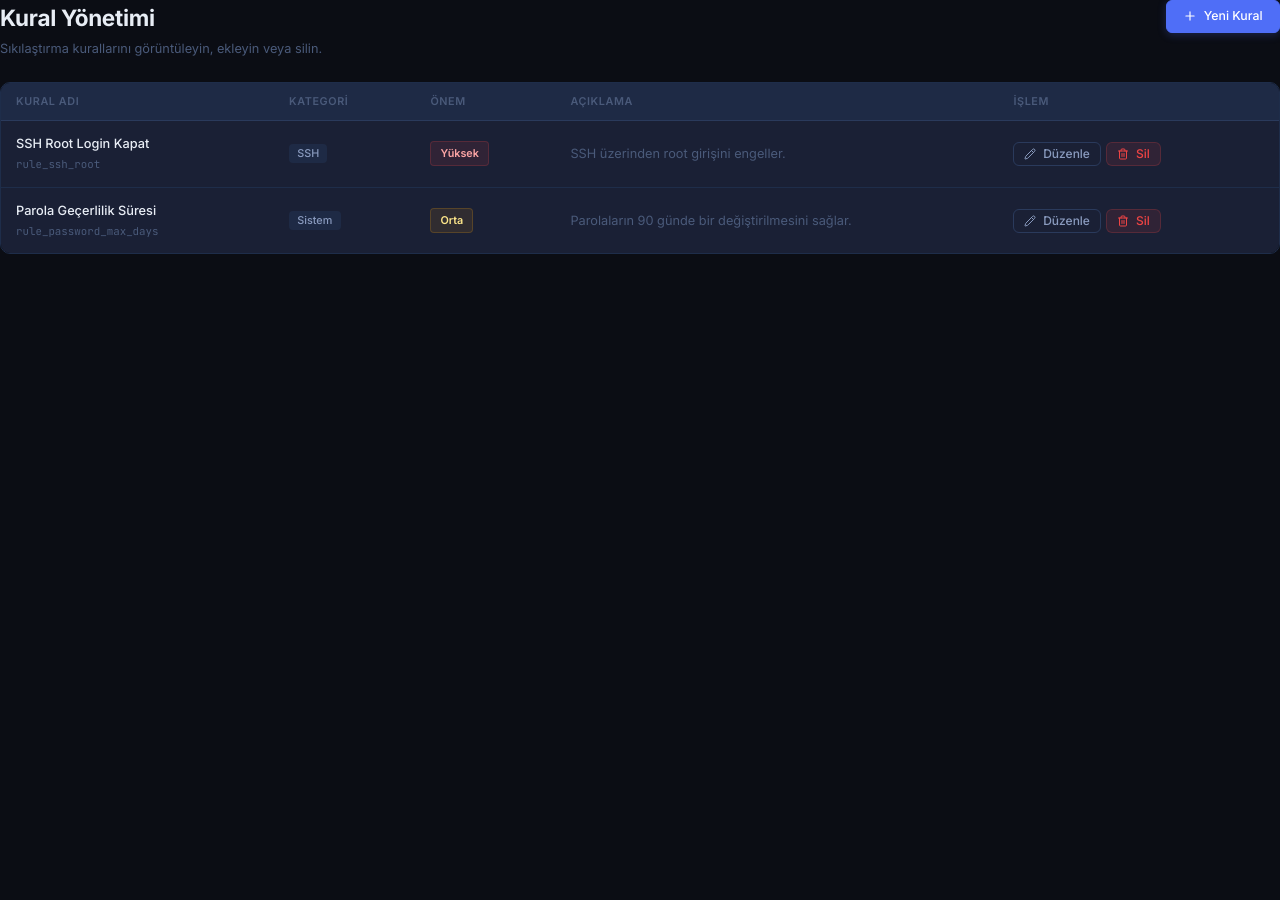
Test: RuleManager Bileşeni › Yeni Kural butonuna basıldığında formu açmalı
Expected: the text "SSH Root Login Kapat" is shown, [16,136,149,151]
Click the button "Yeni Kural": click(1223, 16) [1166,0,1279,32]
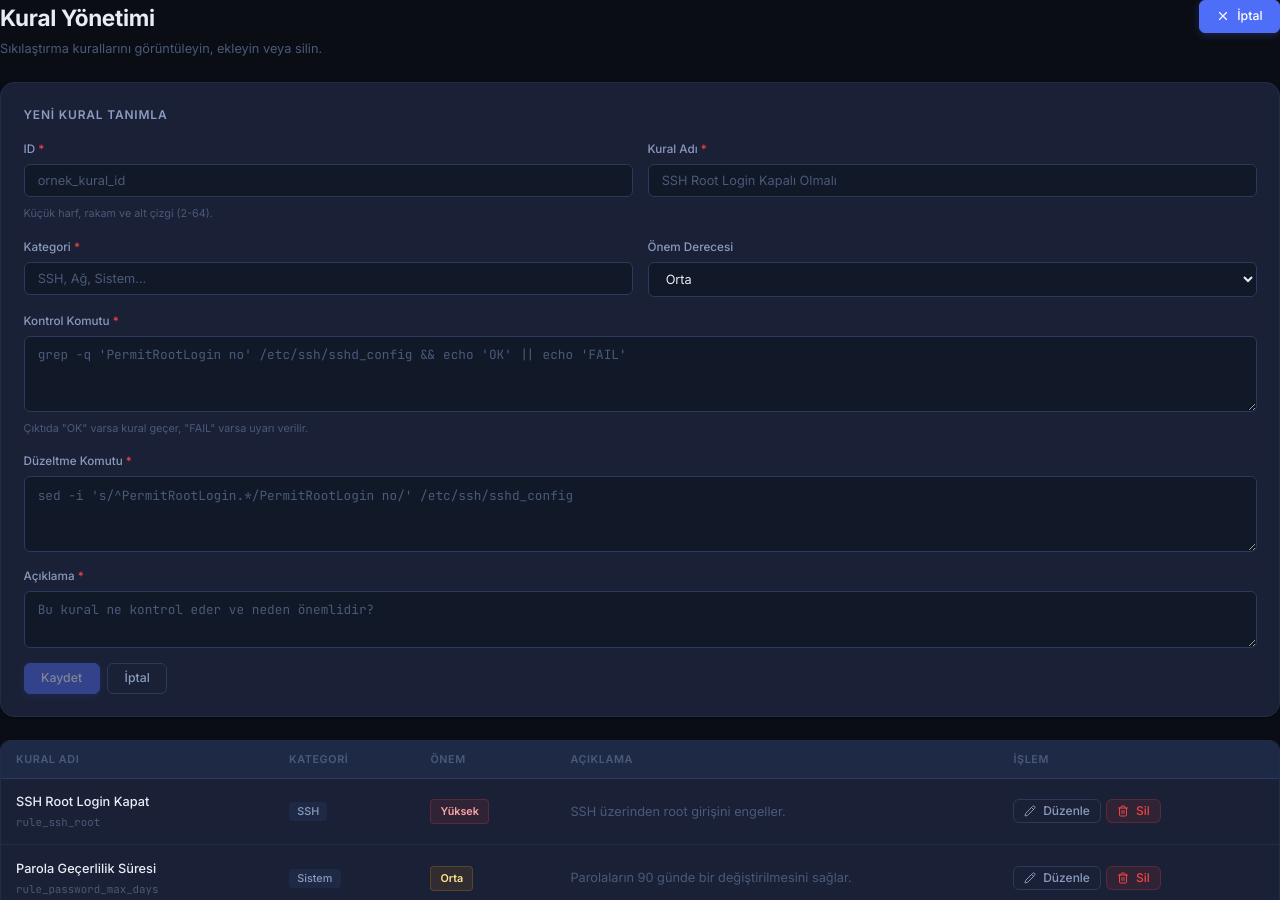
Expected: the text "Yeni Kural Tanımla" is shown, [24,107,167,122]
